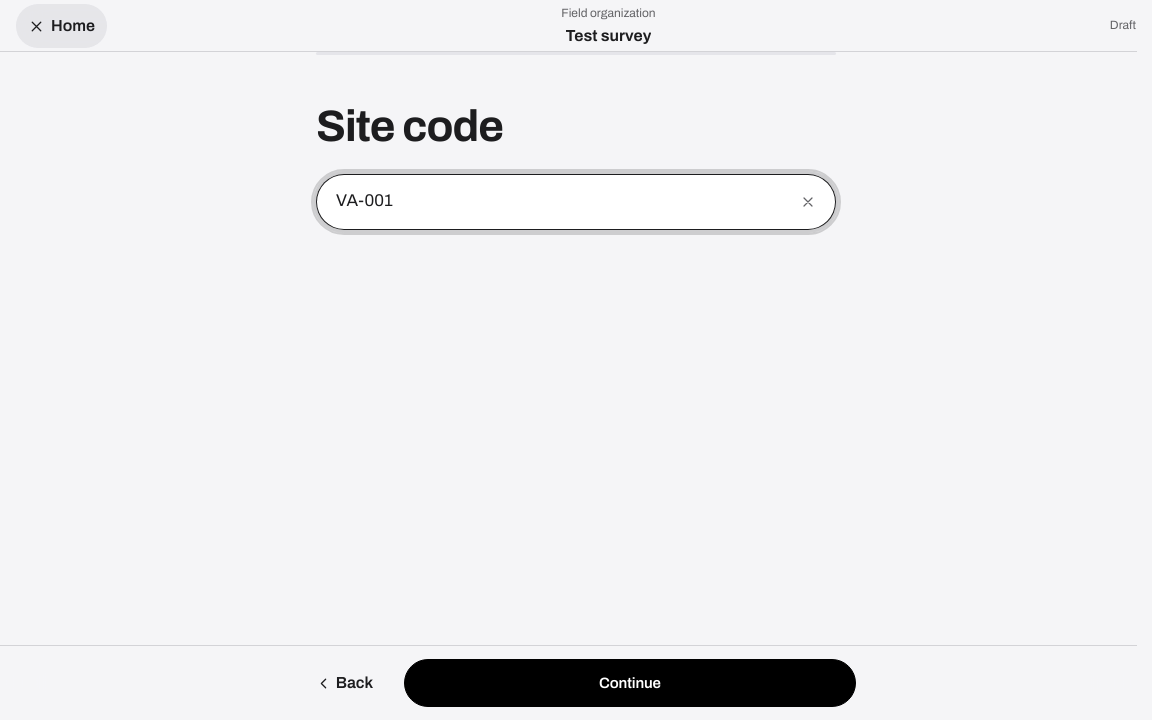
Test: Collector guided flow (§10 client-side enforcement) › rejects fractional values for integer fields
The image size is (1152, 720).
Click the 4th button at (630, 683), box left=404, top=659, right=856, bottom=707
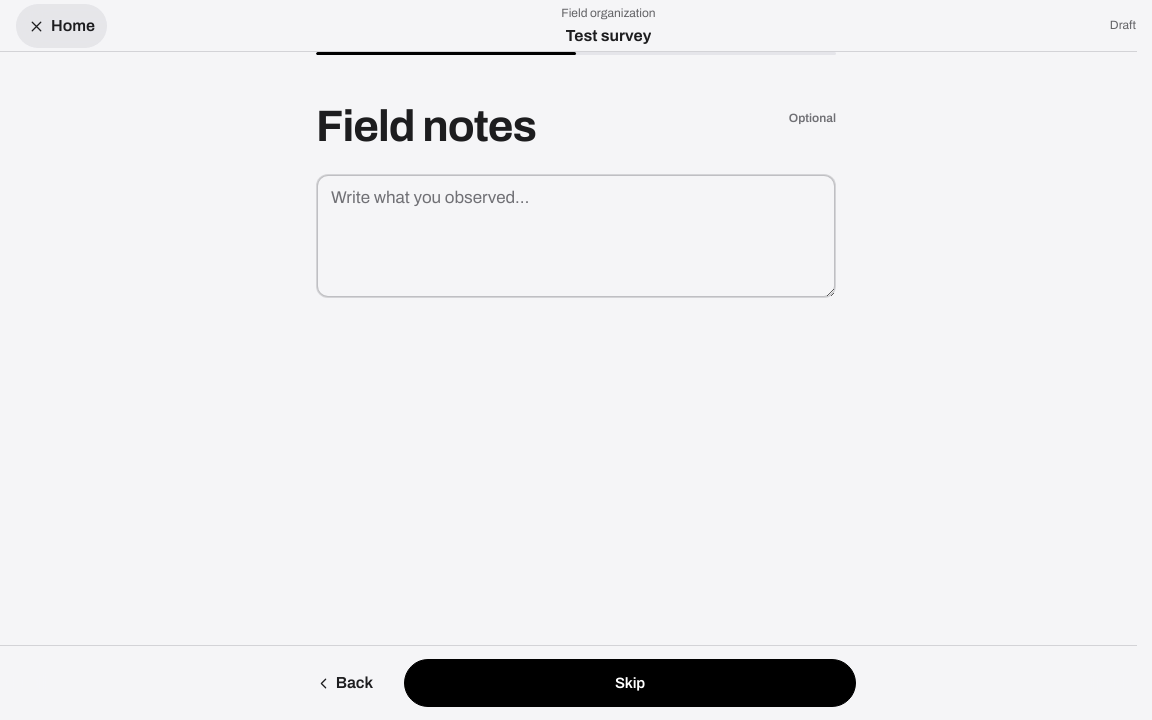
Click the 3rd button at (630, 683), box left=404, top=659, right=856, bottom=707
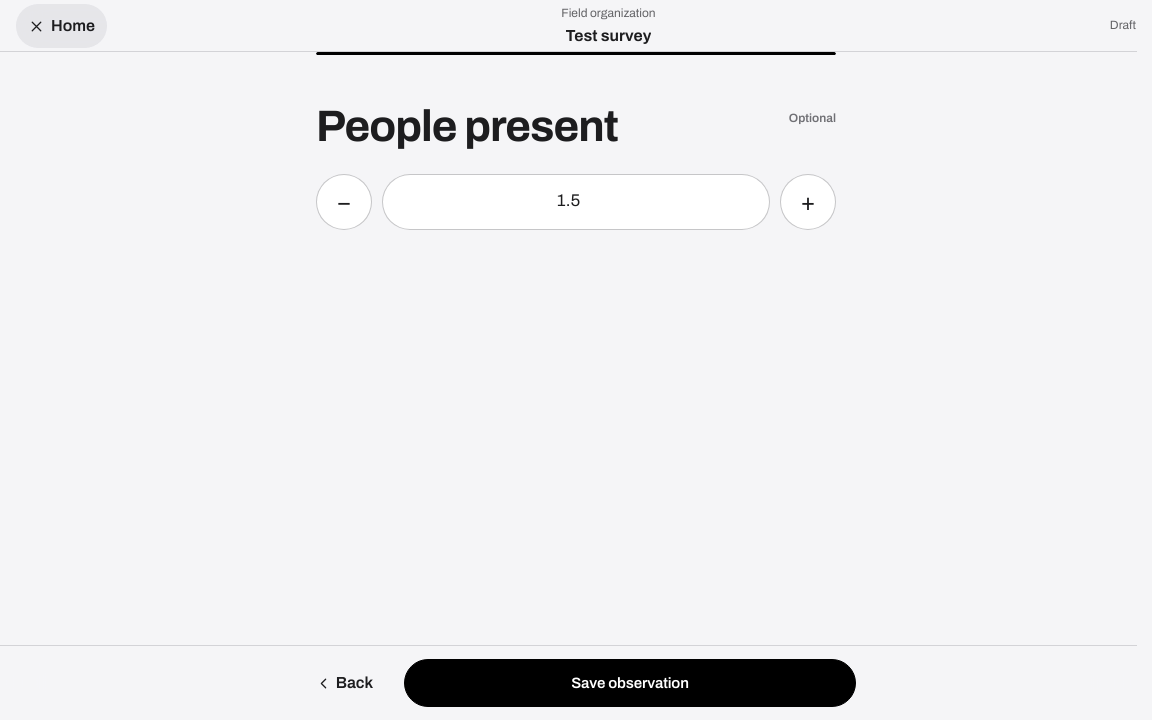
Click the 3rd button named "save observation" at (630, 683), box left=404, top=659, right=856, bottom=707
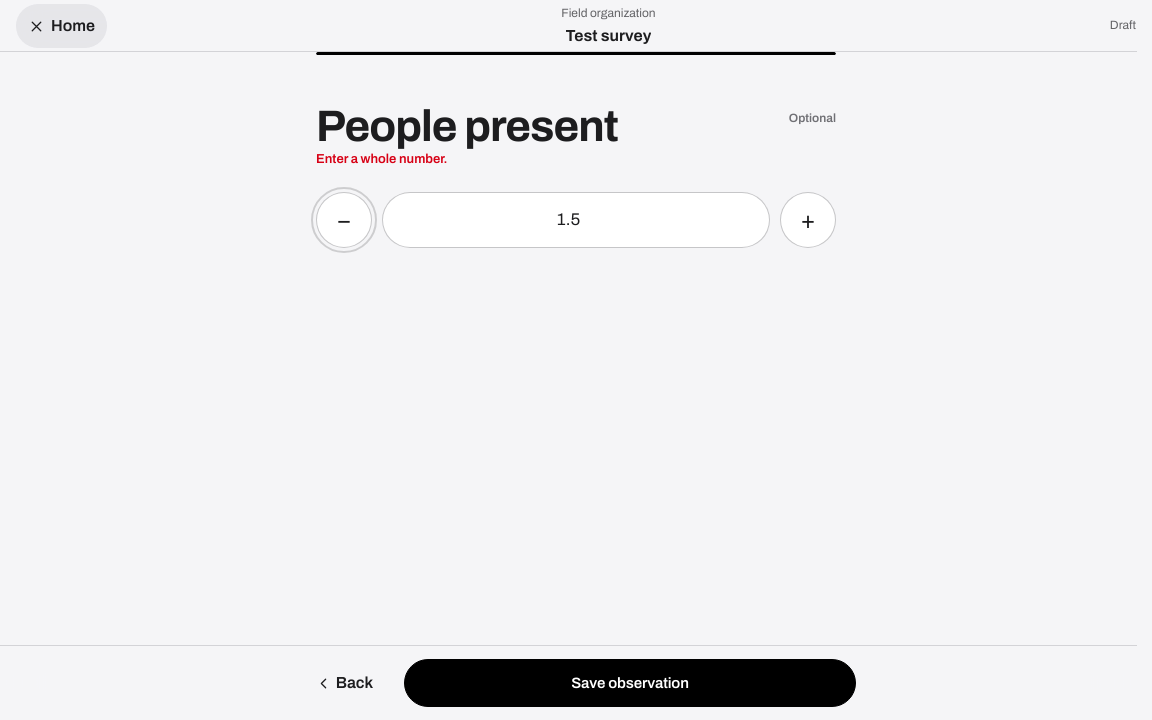
Expected: the text "whole number" is shown, left=316, top=152, right=448, bottom=166
